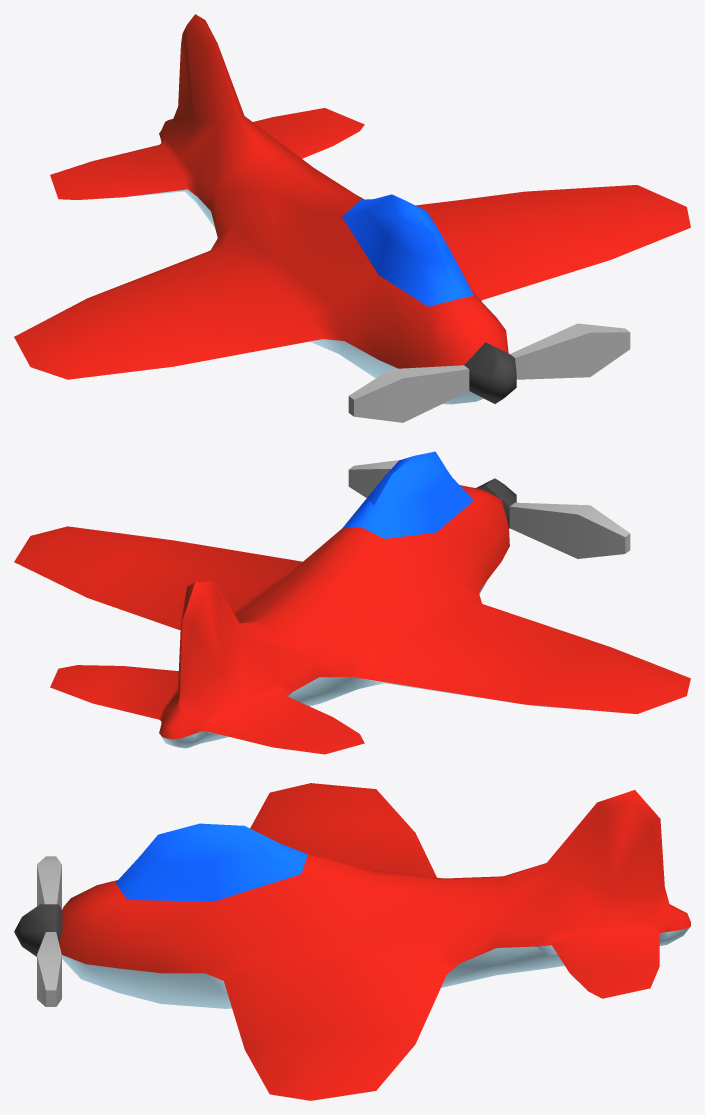
The model's file is airplane000.fbx.
3 renders of one model, top to bottom at view 1: azimuth 30°, elevation 25°; view 2: azimuth 150°, elevation 25°; view 3: azimuth 270°, elevation 25°, orthographic.
Parts seen in each view (by area): view 1: obj1, obj3, obj2, obj4, obj0; view 2: obj1, obj2, obj3, obj0, obj4; view 3: obj1, obj2, obj0, obj3, obj4.
Part boxes in pixels (left/top/right/bottom): obj1: left=14, top=14, right=690, bottom=379; obj3: left=348, top=323, right=630, bottom=422; obj2: left=342, top=194, right=473, bottom=306; obj4: left=464, top=342, right=516, bottom=403; obj0: left=127, top=136, right=483, bottom=404; obj1: left=14, top=485, right=690, bottom=754; obj2: left=342, top=451, right=473, bottom=538; obj3: left=348, top=460, right=630, bottom=558; obj0: left=160, top=581, right=632, bottom=748; obj4: left=476, top=478, right=516, bottom=528; obj1: left=59, top=783, right=690, bottom=1100; obj2: left=115, top=823, right=307, bottom=901; obj0: left=62, top=926, right=690, bottom=1008; obj3: left=37, top=856, right=61, bottom=1006; obj4: left=14, top=904, right=62, bottom=956.
Size of the model in its own units: 20 by 6.26 by 18.
